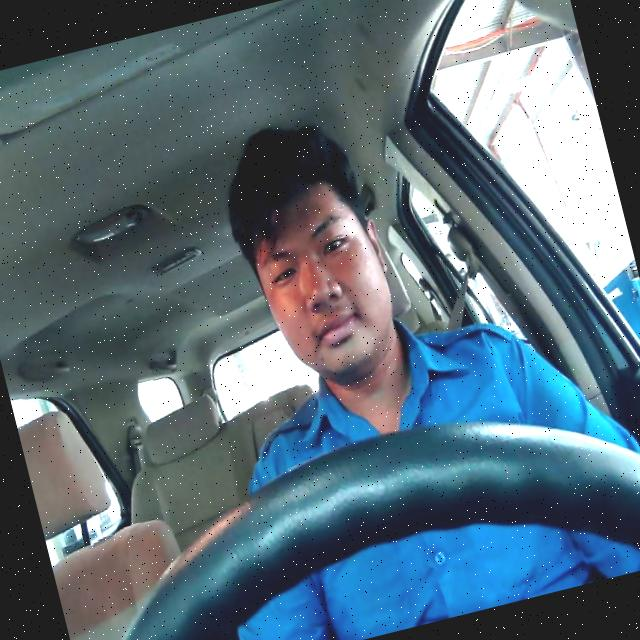focused: (238, 170, 410, 392)
